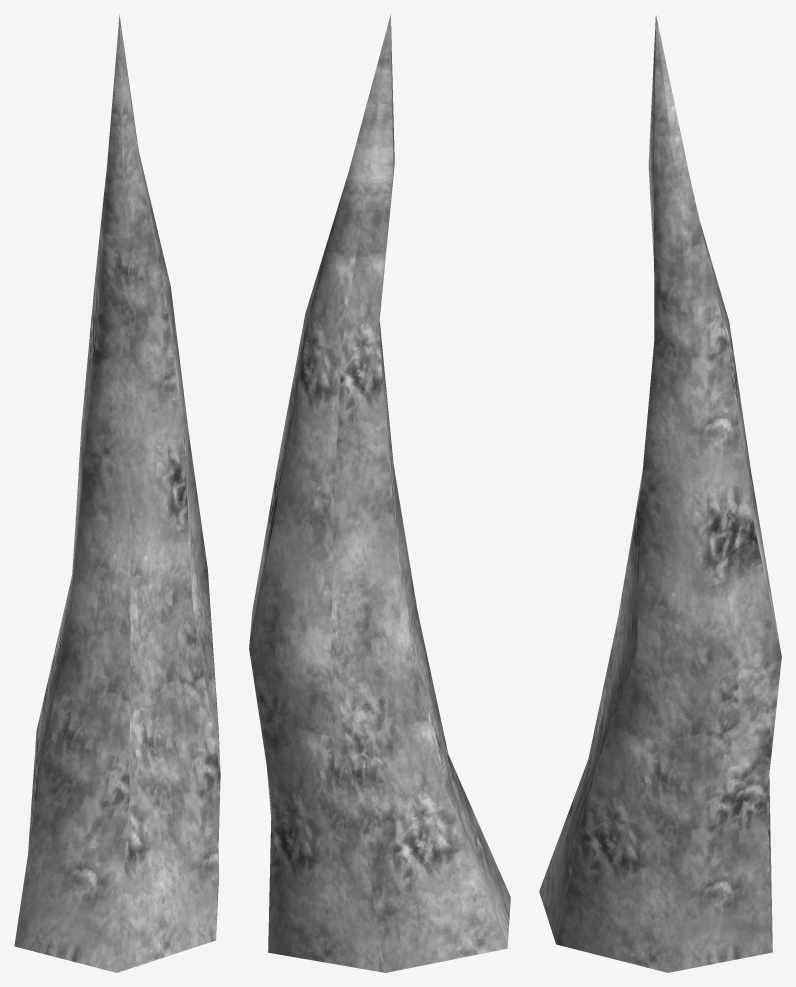
The model's file is Stalactic_03.fbx.
3 renders of one model, left to right at view 1: azimuth 30°, elevation 25°; view 2: azimuth 150°, elevation 25°; view 3: azimuth 270°, elevation 25°, orthographic.
Parts seen in each view (by area): view 1: Cone003; view 2: Cone003; view 3: Cone003.
Part boxes in pixels (bbox=[...]): Cone003: bbox=[14, 14, 220, 972]; Cone003: bbox=[249, 14, 510, 972]; Cone003: bbox=[539, 15, 781, 972].
Bounding box in the file's own units: 0.518 × 2 × 0.4849.
1 material, 1 textured.
